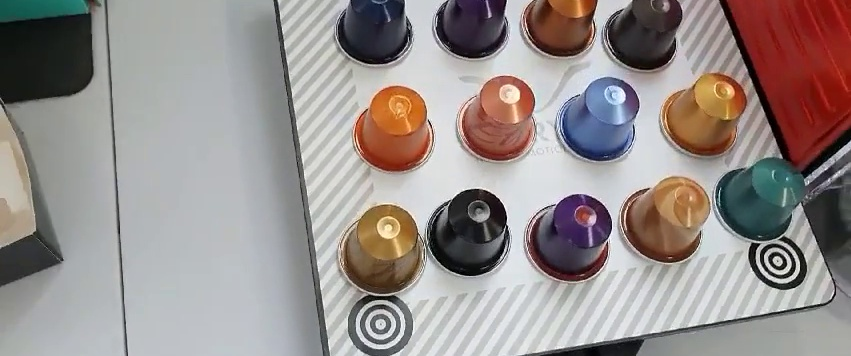capsule_1: (336, 1, 417, 66)
capsule_10: (426, 188, 512, 278)
capsule_11: (524, 190, 612, 285)
capsule_12: (622, 171, 708, 266)
capsule_13: (713, 158, 803, 244)
capsule_2: (435, 1, 510, 59)
capsule_3: (518, 1, 604, 62)
capsule_4: (604, 1, 683, 75)
capsule_5: (353, 85, 436, 171)
capsule_6: (457, 76, 538, 166)
capsule_7: (556, 79, 639, 166)
capsule_8: (659, 72, 746, 163)
capsule_9: (336, 200, 427, 299)
